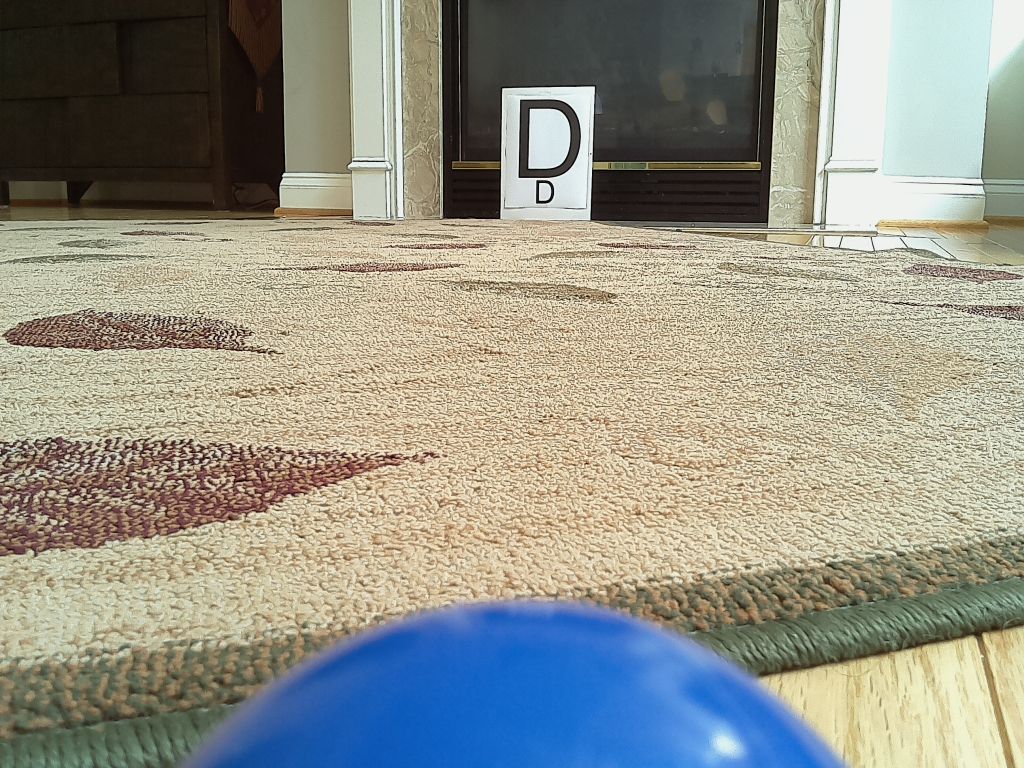letter: (520, 100, 581, 178)
